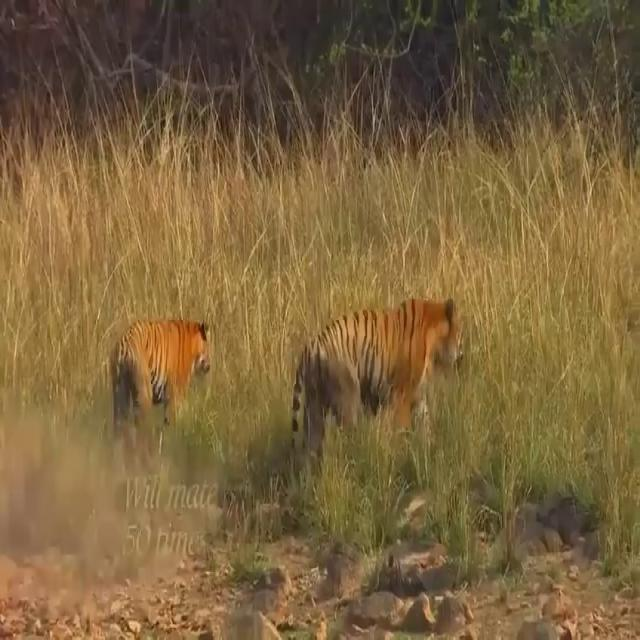tiger: (289, 297, 465, 488), (113, 317, 213, 424)
